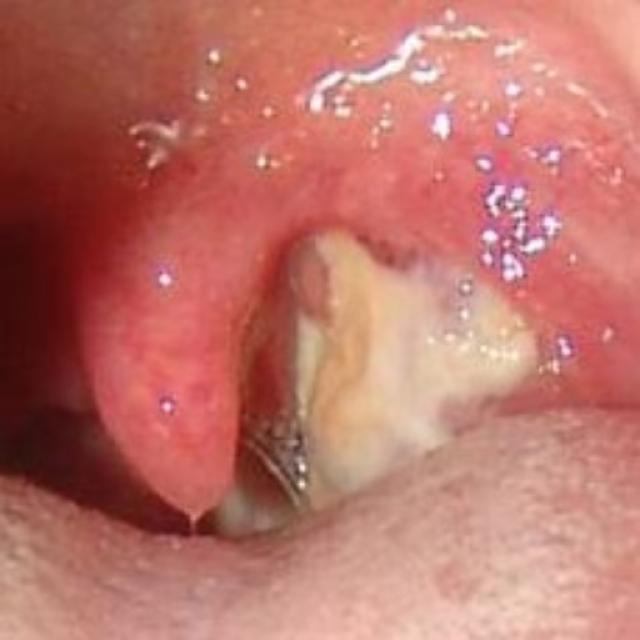cancer-detection: (235, 119, 571, 523)
processing_area: (1, 0, 639, 558)
